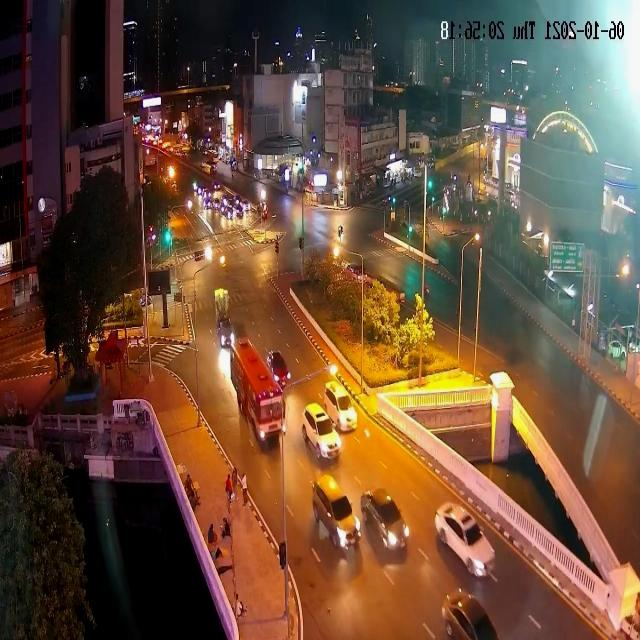Bus: (230, 338, 286, 443)
Car: (432, 499, 492, 575), (311, 471, 361, 555), (361, 487, 410, 551), (441, 589, 501, 639), (301, 402, 341, 461), (324, 378, 358, 432), (266, 349, 291, 390), (342, 262, 371, 286), (217, 316, 233, 348), (224, 205, 234, 222), (210, 162, 219, 176), (242, 200, 251, 212), (236, 206, 244, 217), (203, 200, 211, 208), (234, 195, 241, 204), (212, 183, 220, 190), (221, 194, 228, 202), (213, 199, 219, 208), (203, 191, 210, 198), (200, 161, 206, 167)
